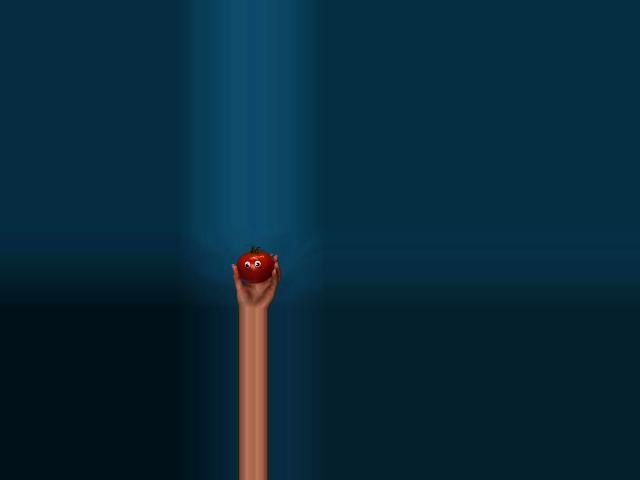tomato: (236, 251, 274, 283)
